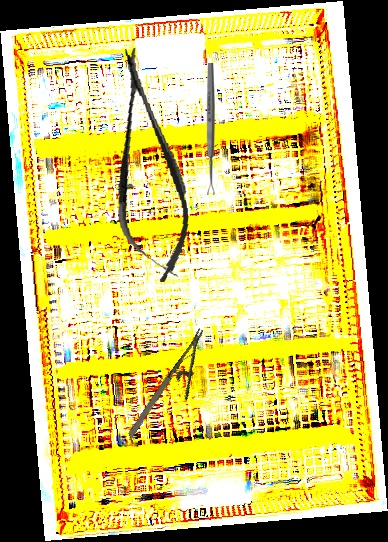Micro Scissor: (97, 43, 199, 287)
Needle Holder: (124, 327, 226, 451)
Surgical Spoon: (206, 63, 215, 195)
